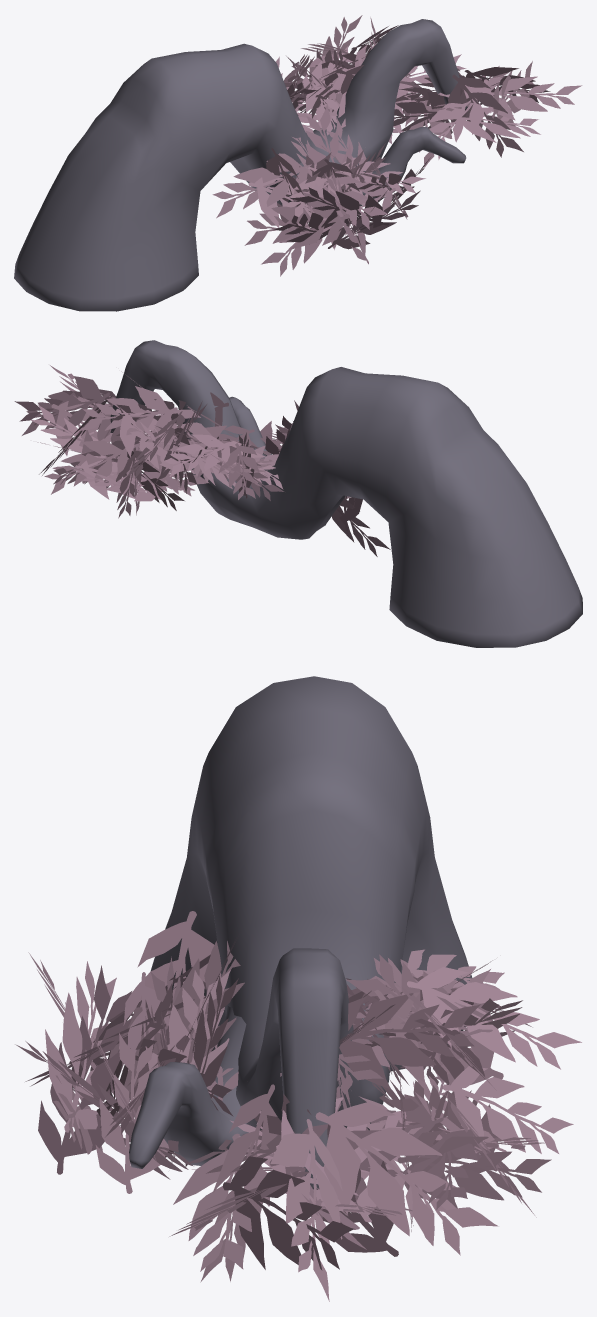
File: MSH_Tree_Blockout01.fbx
The picture shows the model from 3 angles, top to bottom: view 1: azimuth 30°, elevation 25°; view 2: azimuth 150°, elevation 25°; view 3: azimuth 270°, elevation 25°; orthographic projection. The views are drawn at different scales.
Parts seen in each view (by area): view 1: Tree_Combined, Leaves_Batch, Leaves_Batch1; view 2: Tree_Combined, Leaves_Batch, Leaves_Batch1; view 3: Tree_Combined, Leaves_Batch, Leaves_Batch1.
Part boxes in pixels (x1,y1,x2,y2): Tree_Combined: (14,19,467,311); Leaves_Batch: (212,15,582,276); Leaves_Batch1: (276,46,466,249); Tree_Combined: (110,340,582,647); Leaves_Batch: (14,365,390,556); Leaves_Batch1: (37,416,348,518); Tree_Combined: (129,676,472,1189); Leaves_Batch: (25,911,581,1301); Leaves_Batch1: (15,949,573,1231).
Bounding box in the file's own units: 1253 × 475 × 606.
